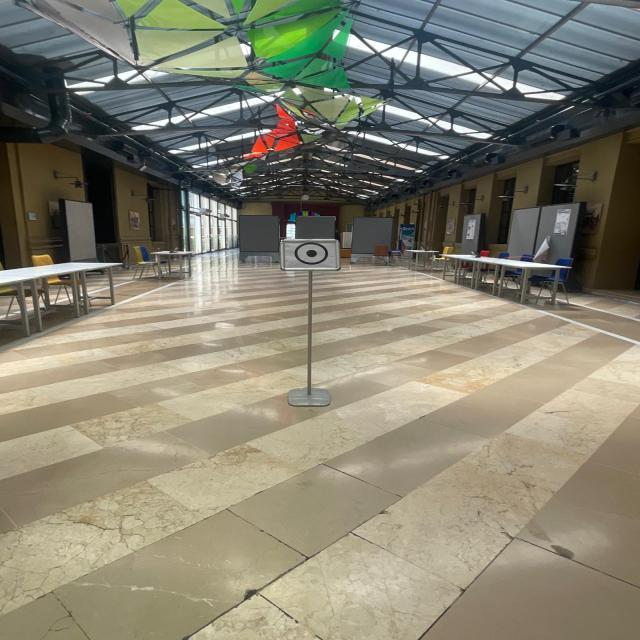Target: (275, 228, 347, 279)
inner: (304, 246, 319, 263)
